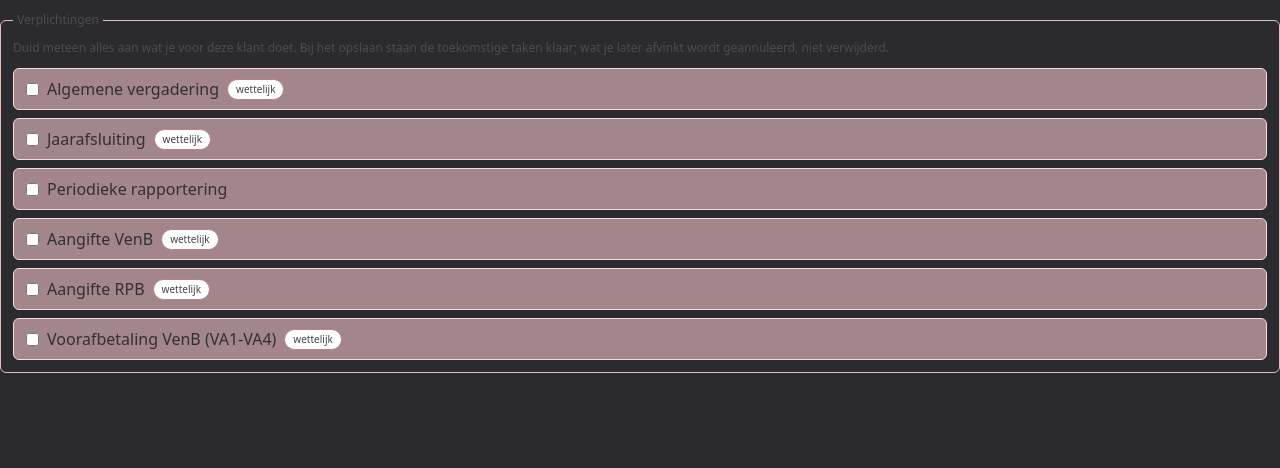
Test: ObligationPicker — getoonde standaardwaarden staan ook echt in parameters › toont na een leeggemaakt en verlaten getalveld opnieuw wat er opgeslagen staat
Click the checkbox labelled "Jaarafsluiting wettelijk" at (32, 139), box x1=26 y1=132 x2=39 y2=146
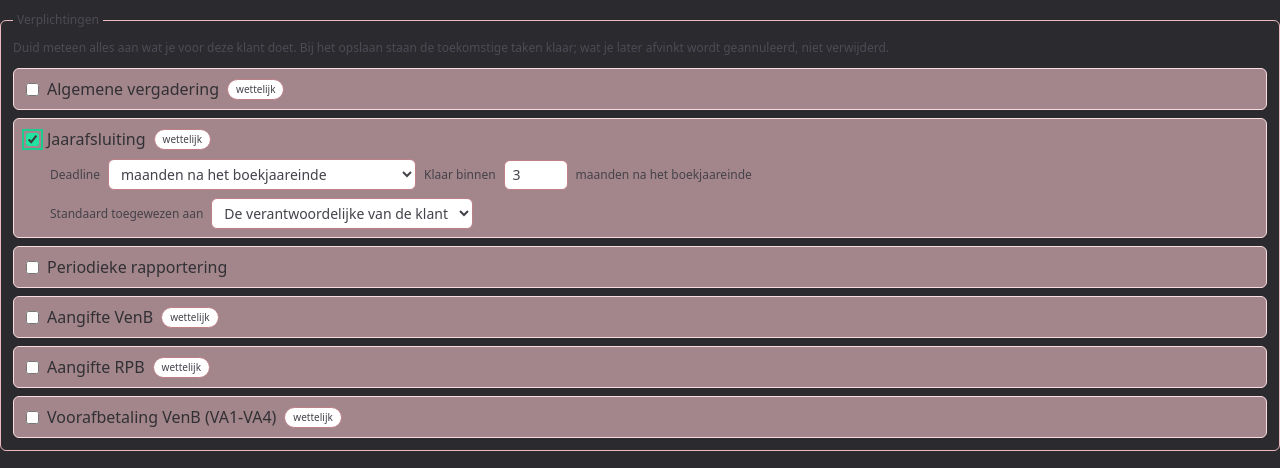
Clear the number field named "Klaar binnen (maanden na boekjaareinde)" at (536, 174), box x1=504 y1=160 x2=568 y2=190
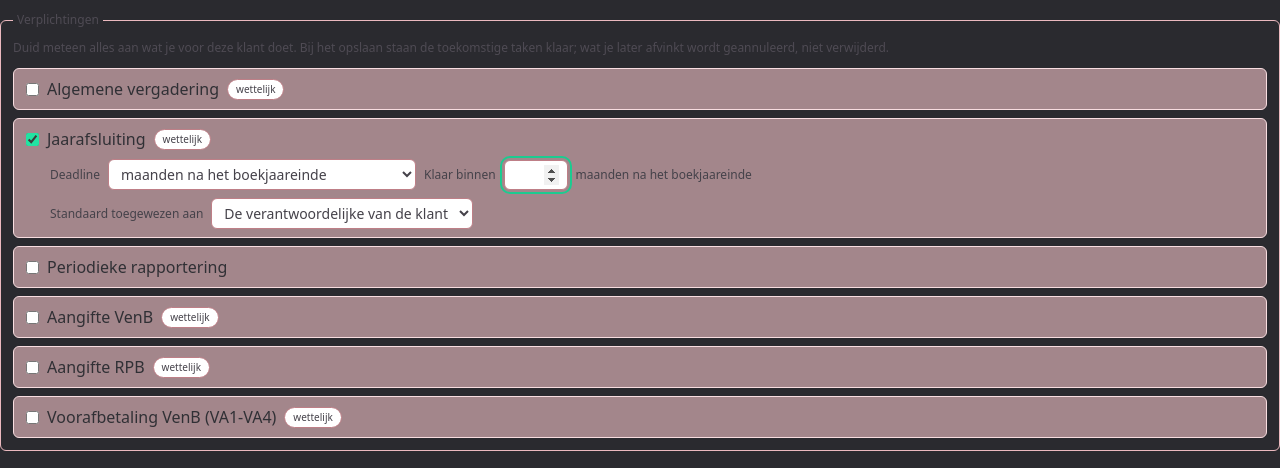
Press Tab
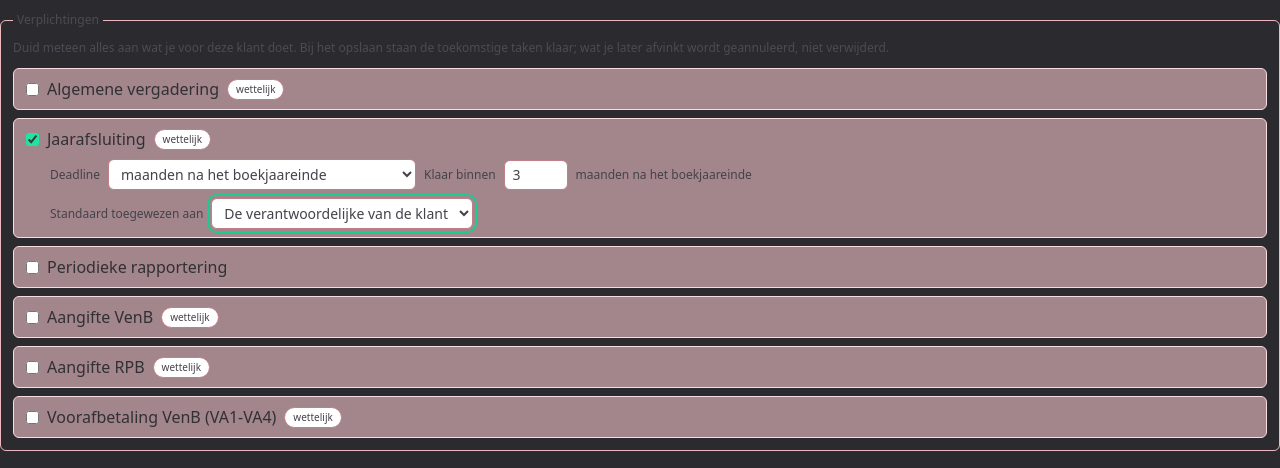
expect the number field named "Klaar binnen (maanden na boekjaareinde)" holds "3": met, box x1=504 y1=160 x2=568 y2=190
